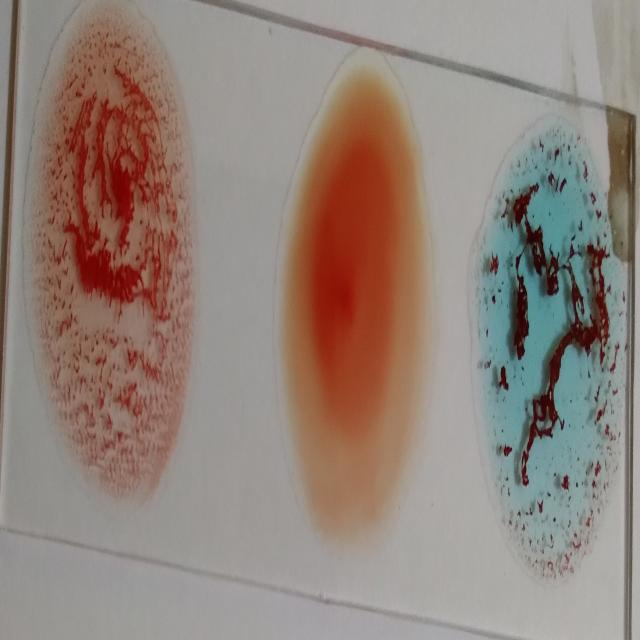A: (479, 119, 623, 572)
D: (29, 12, 205, 492)
